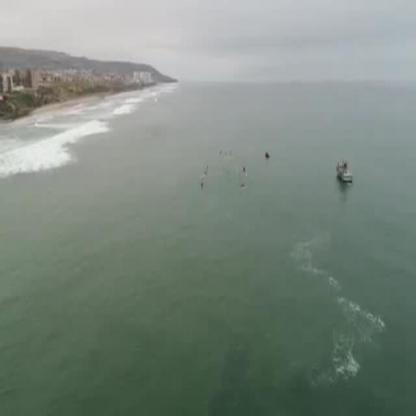Boat: (333, 156, 357, 187)
